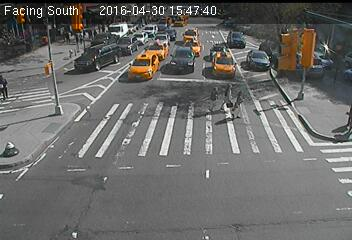neg: (6, 135, 24, 160), (263, 44, 281, 68), (131, 54, 148, 76), (101, 83, 117, 104), (136, 27, 151, 47), (329, 66, 343, 85), (41, 56, 54, 73), (322, 43, 334, 58), (96, 46, 106, 61)
pos: (229, 90, 251, 120), (218, 83, 240, 112), (206, 85, 226, 112)
